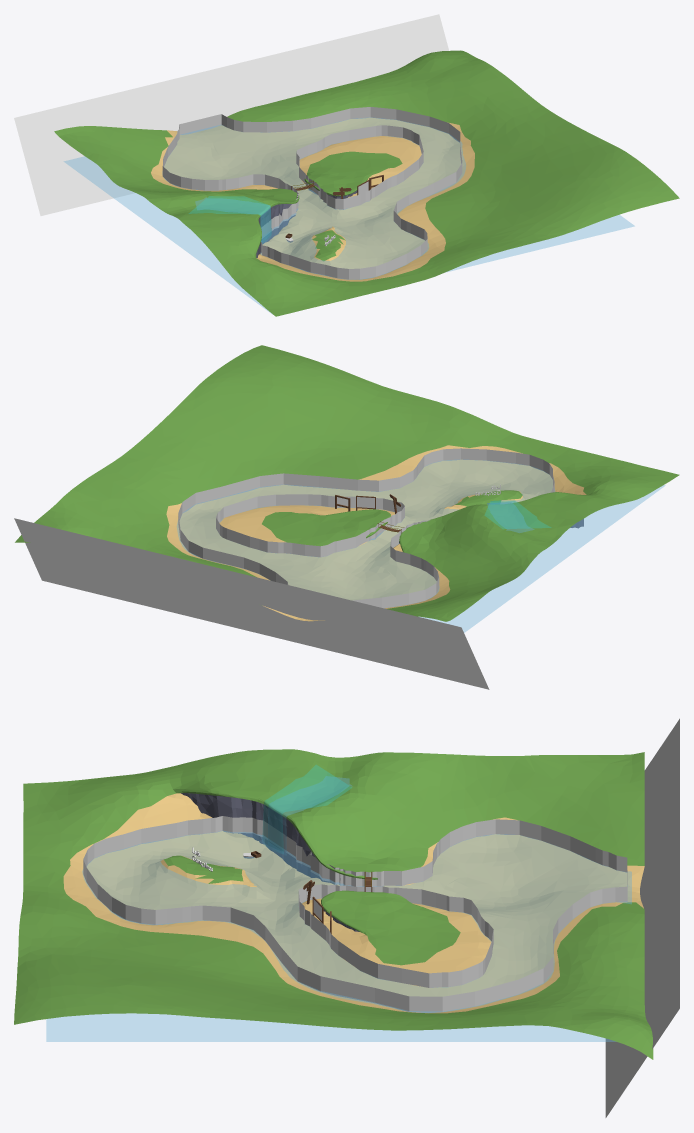
Rendered from river_environment.fbx.
3 views of the same model, one above another, from view 1: azimuth 30°, elevation 25°; view 2: azimuth 150°, elevation 25°; view 3: azimuth 270°, elevation 25° (orthographic). The views are drawn at different scales.
Parts seen in each view (by area): view 1: floor, water_block, lake, barrier, waterfall_1, waterfall, cliff_1; view 2: floor, water_block, lake, barrier, waterfall_1, waterfall; view 3: floor, lake, barrier, water_block, waterfall_1, cliff_1, waterfall.
Part boxes in pixels (x1,y1,x2,y2): floor: (54, 50, 679, 316); water_block: (14, 14, 448, 215); lake: (64, 117, 634, 314); barrier: (162, 107, 462, 279); waterfall_1: (189, 196, 271, 242); waterfall: (195, 197, 270, 241); cliff_1: (256, 204, 295, 257); floor: (15, 345, 679, 621); water_block: (14, 518, 489, 689); lake: (177, 460, 665, 632); barrier: (178, 448, 554, 608); waterfall_1: (485, 500, 550, 528); waterfall: (487, 502, 534, 532); floor: (14, 749, 653, 1059); lake: (46, 831, 631, 1041); barrier: (83, 816, 627, 1012); water_block: (605, 718, 679, 1117); waterfall_1: (262, 765, 351, 853); cliff_1: (181, 793, 340, 883); waterfall: (268, 776, 351, 854).
Size of the model in its own units: 29943 by 5194 by 28430.
